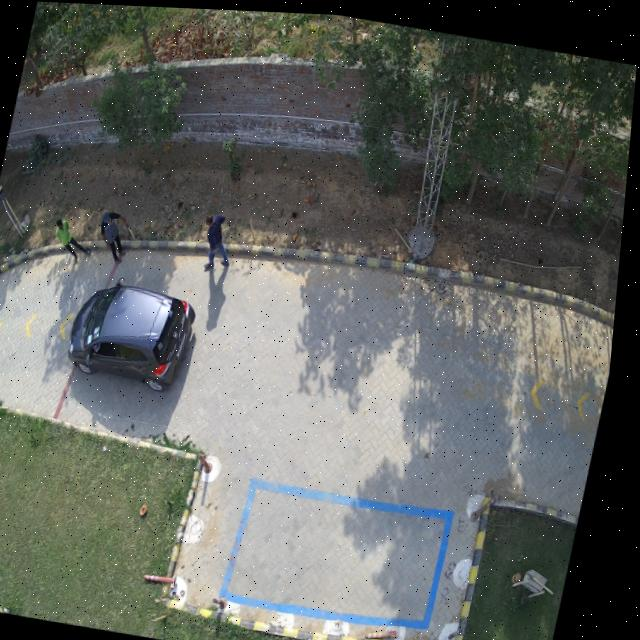car: (74, 277, 201, 389)
